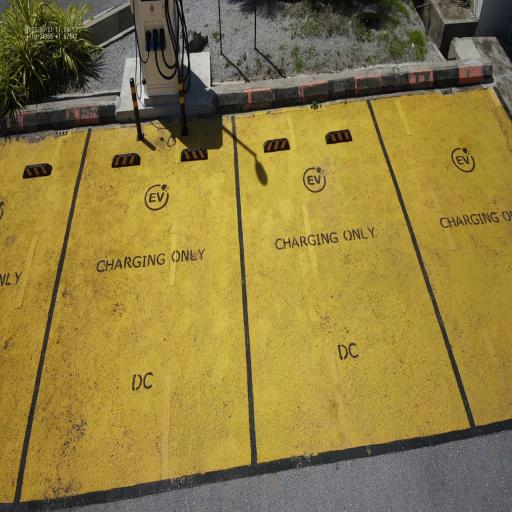Empty: (5, 101, 263, 512), (228, 90, 484, 479)
